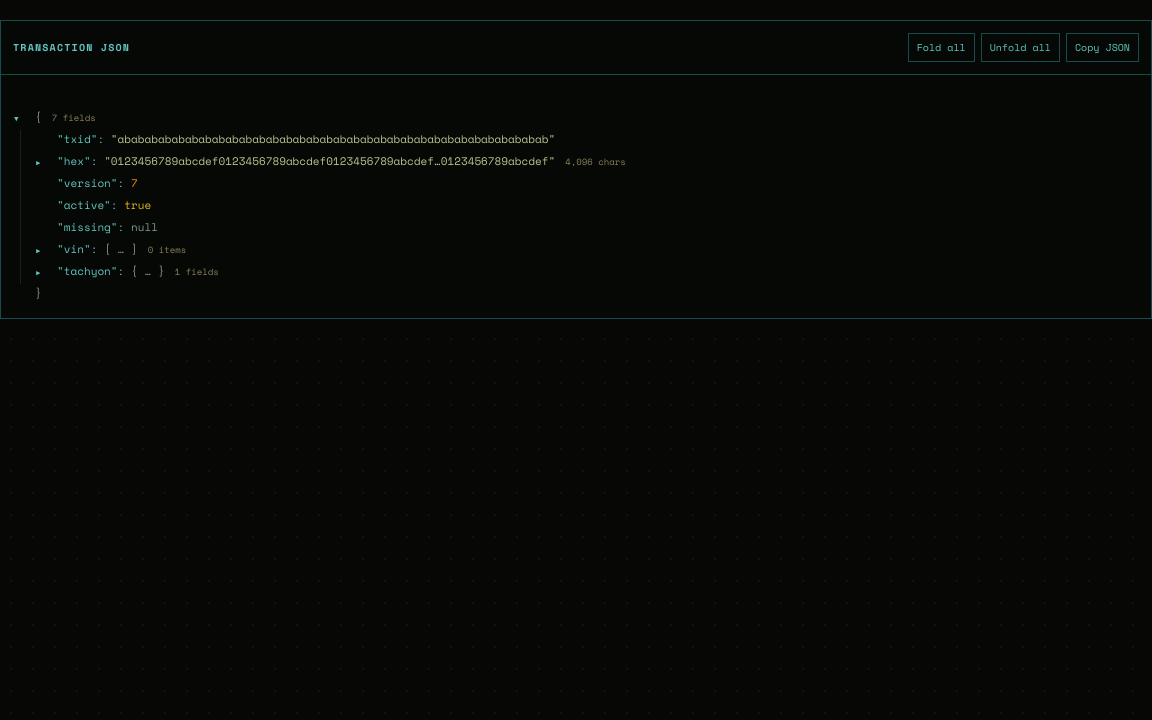
transaction JSON explorer › reports clipboard permission failures without claiming success
Click the button "Copy JSON". click: click(1102, 48)
box: [1066,33,1139,62]
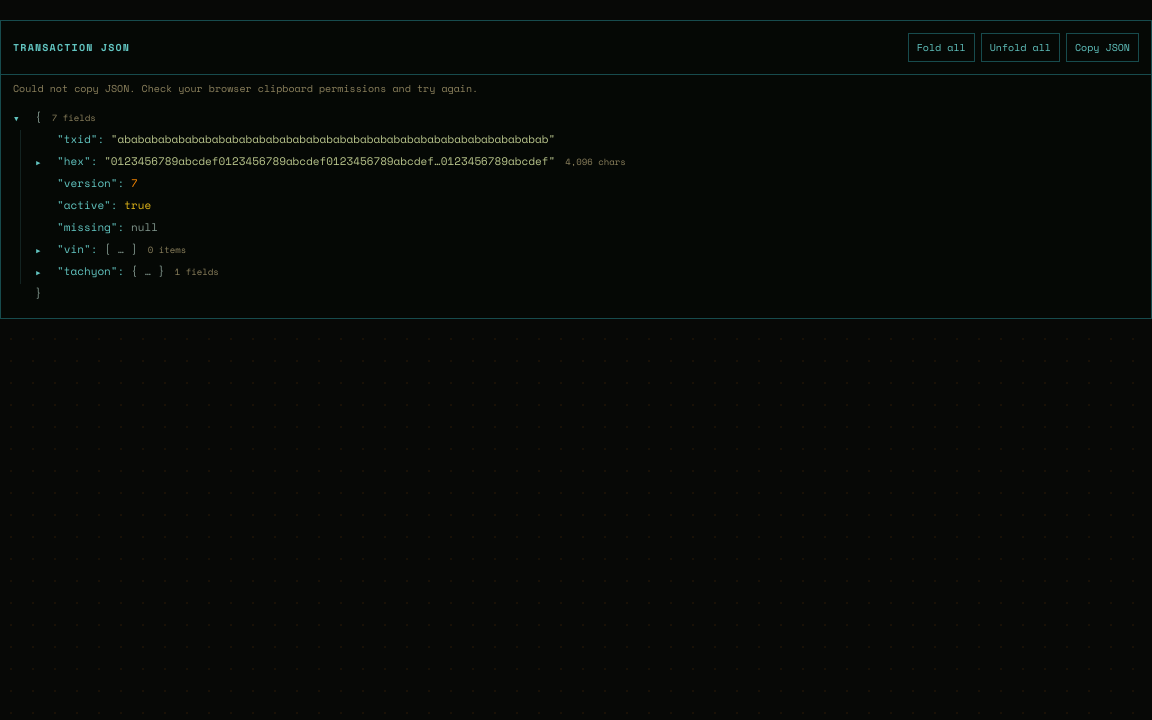
Now the message "Could not copy JSON. Check your browser clipboard permissions and try again." is shown, box [13,81,478,96]
